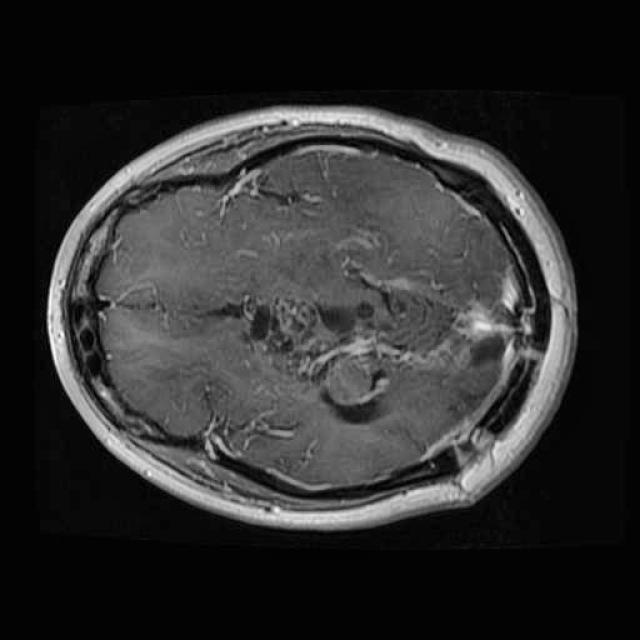Non-Tumor: (196, 238, 482, 440)
